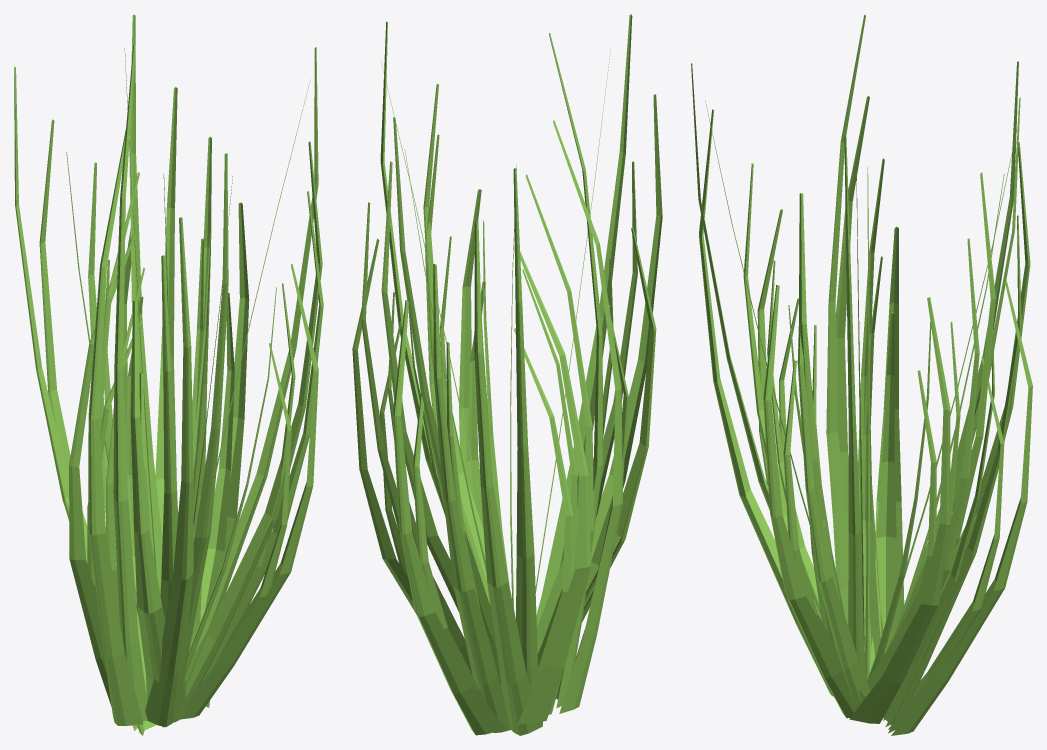
File: grassAlfa.fbx
The picture shows the model from 3 angles, left to right: view 1: azimuth 30°, elevation 25°; view 2: azimuth 150°, elevation 25°; view 3: azimuth 270°, elevation 25°; orthographic projection.
Visible parts, largest first — view 1: Plane.009; view 2: Plane.009; view 3: Plane.009.
Part boxes in pixels (<box>): Plane.009: <box>14,14,323,735</box>; Plane.009: <box>352,14,662,735</box>; Plane.009: <box>691,14,1032,735</box>.
Bounding box in the file's own units: 262 × 742 × 331.
